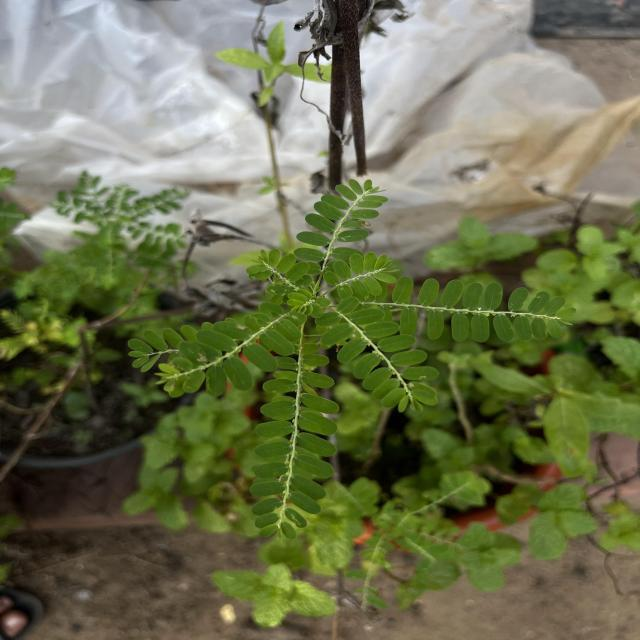Phyllanthus niruri: (246, 356, 342, 543), (316, 294, 442, 413), (374, 274, 582, 344), (162, 300, 307, 398), (291, 173, 390, 276), (324, 250, 402, 302), (244, 245, 318, 298)
